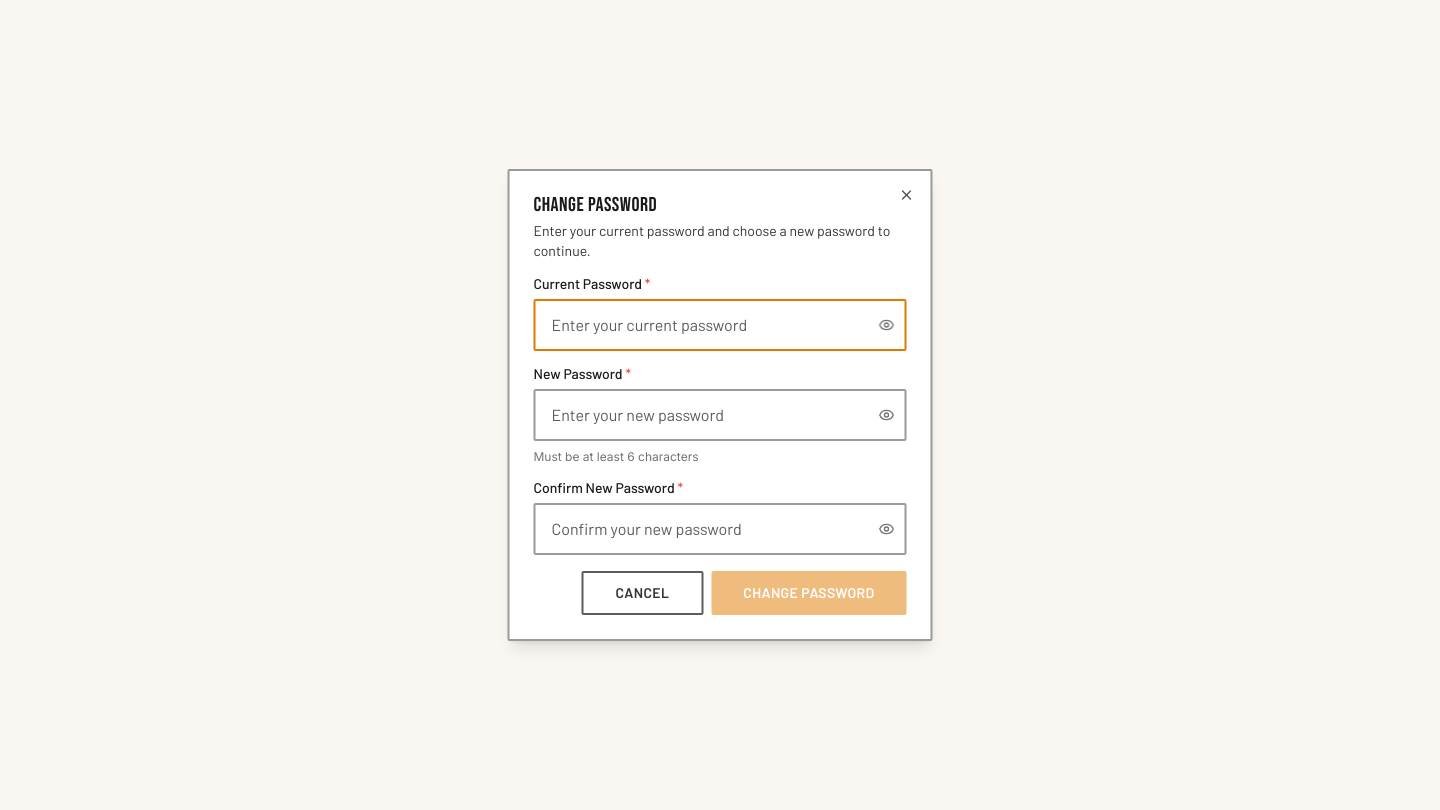
it: PasswordChangeForm › Form Validation › should require passwords to match
Type "oldpassword" into the password field labelled "Current Password *" at (720, 325), box left=534, top=299, right=906, bottom=351
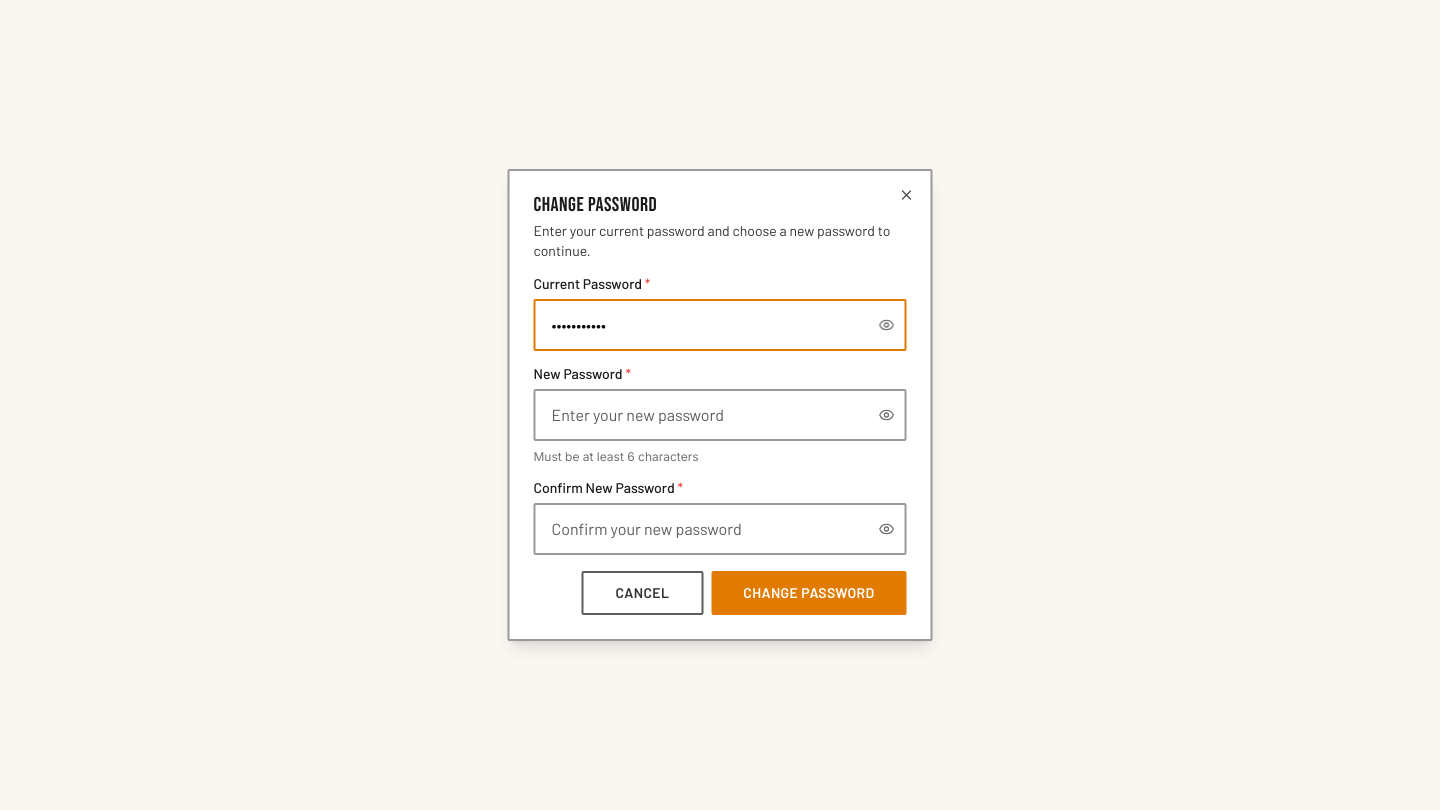
Type "newpassword123" into the password field labelled "New Password *" at (720, 415), box left=534, top=389, right=906, bottom=441
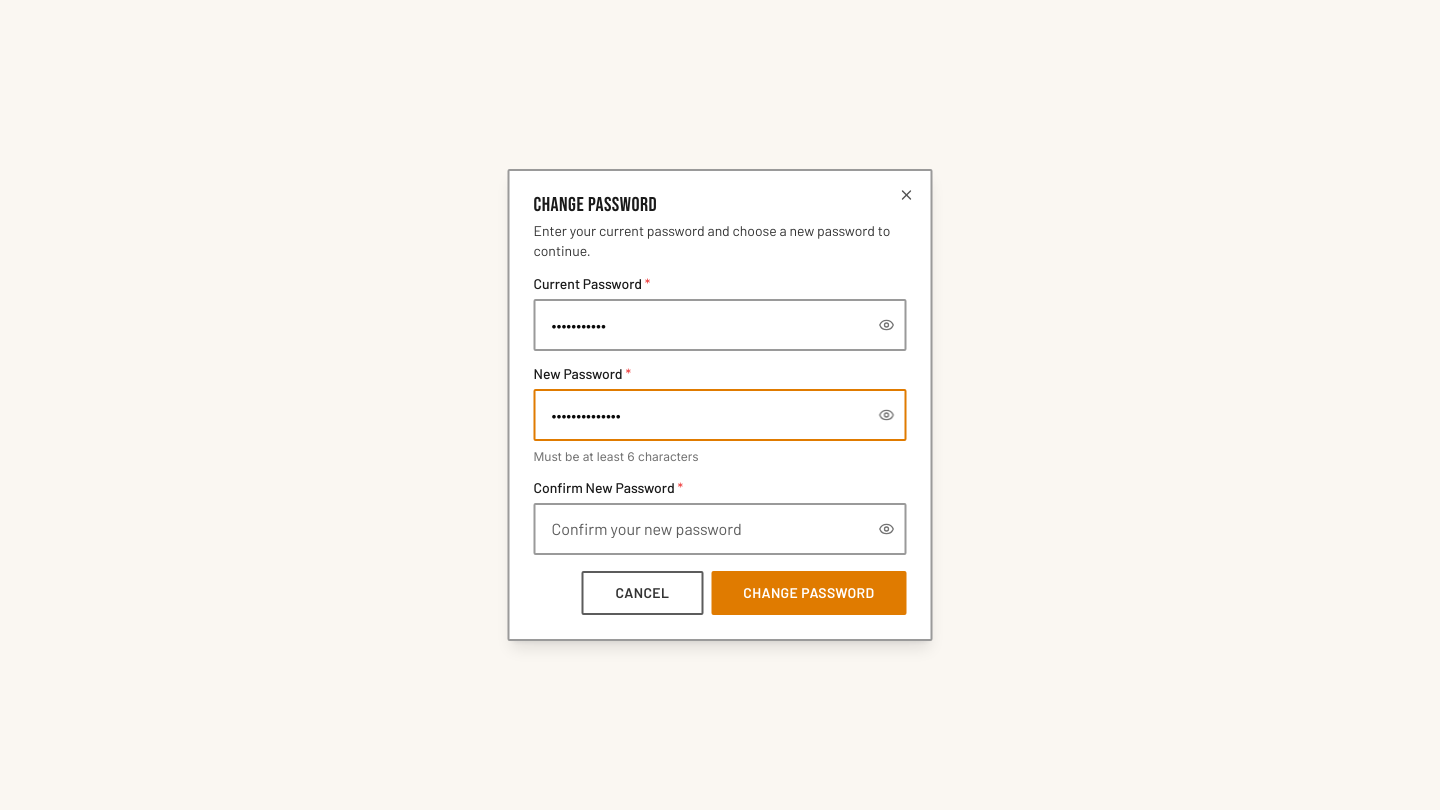
Type "differentpassword" into the password field labelled "Confirm New Password *" at (720, 529), box left=534, top=503, right=906, bottom=555
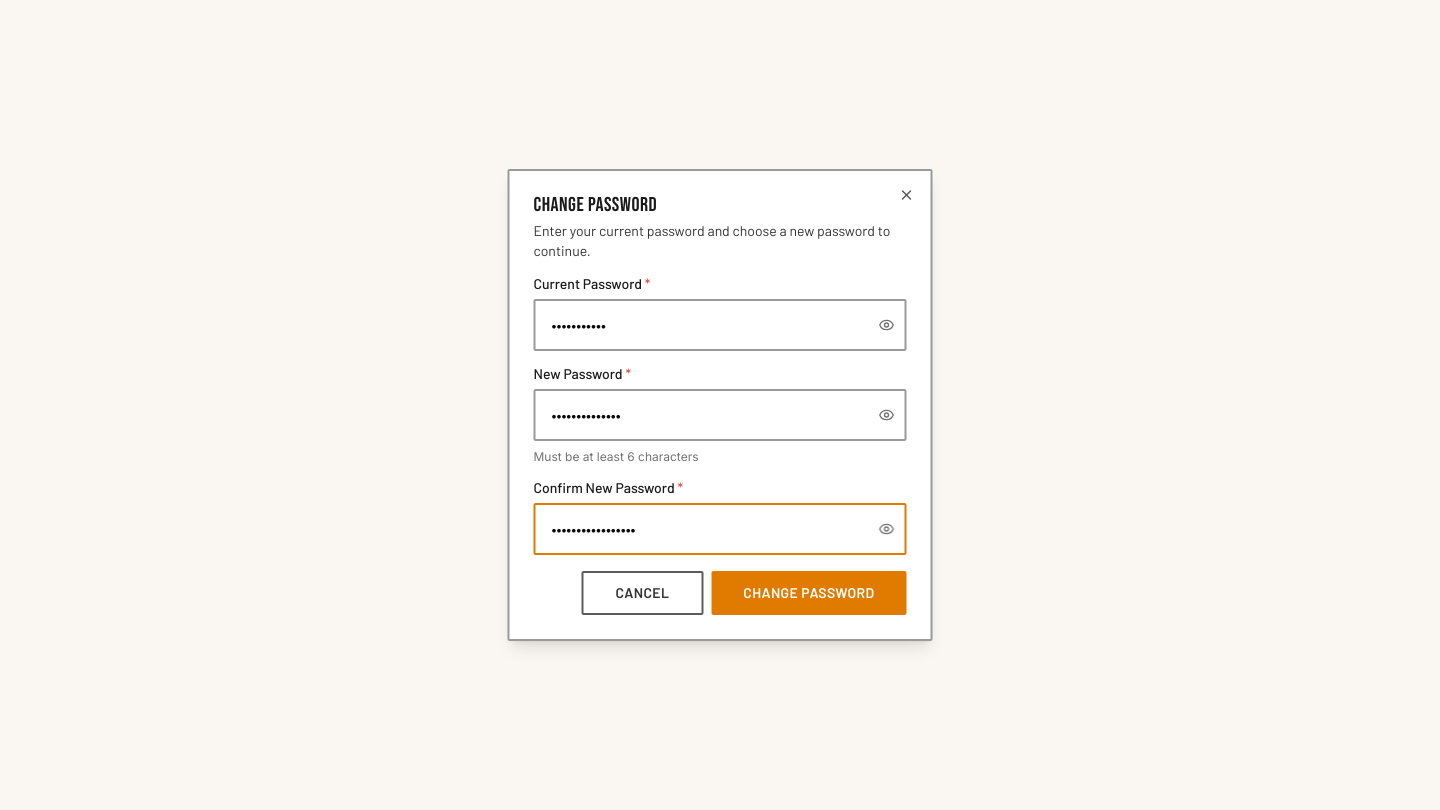
Click the button "Change Password" at (809, 593), box left=711, top=571, right=906, bottom=615
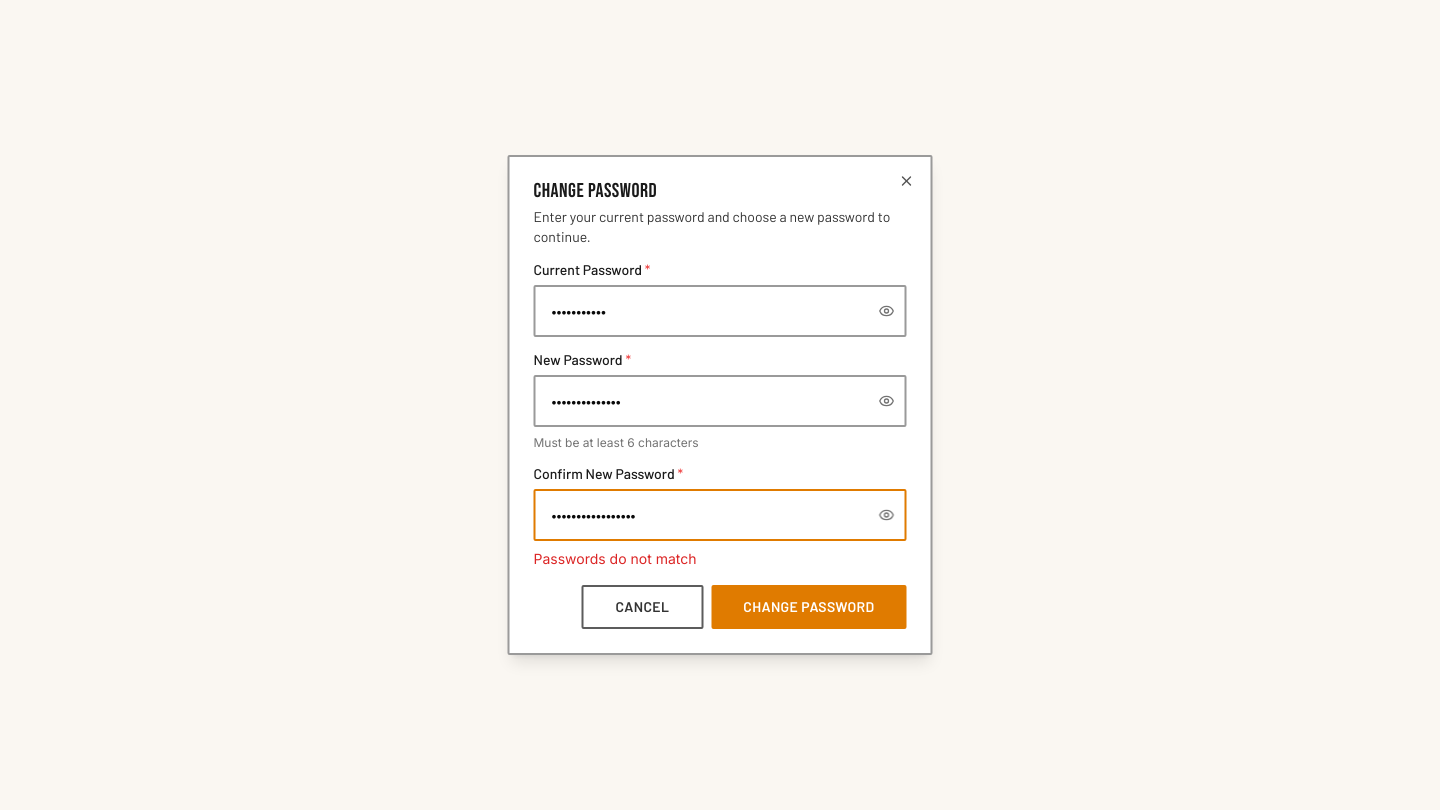
Check: the text "Passwords do not match" is shown, box left=534, top=550, right=697, bottom=567
